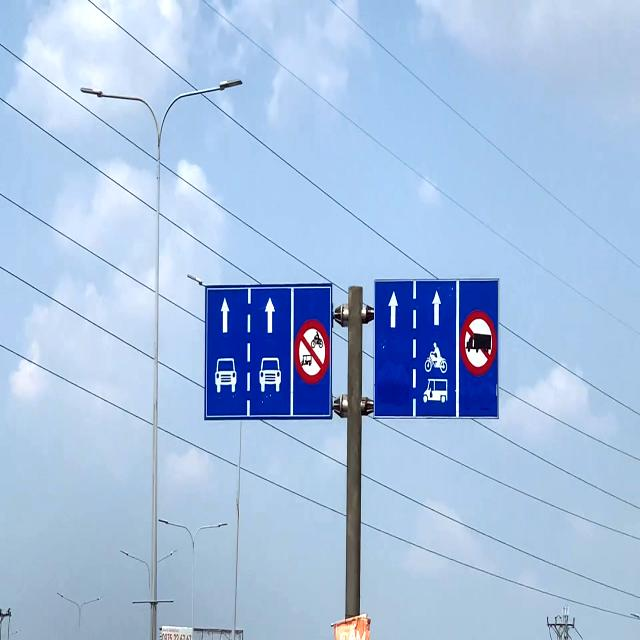P.106a: (459, 309, 498, 378)
